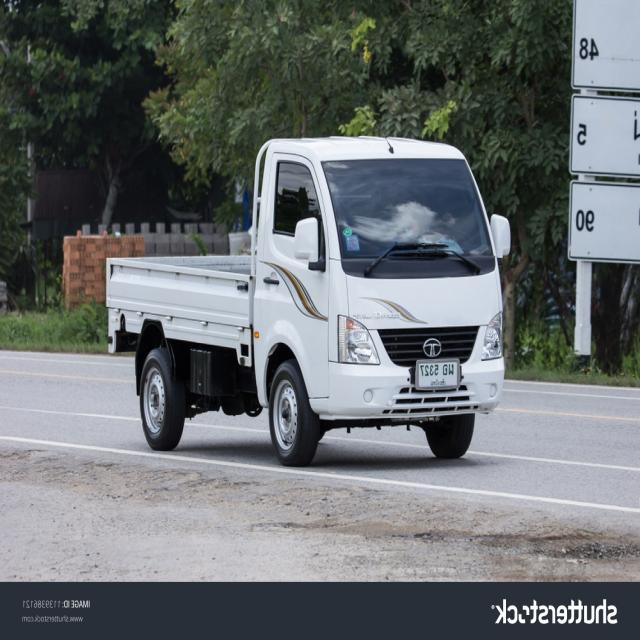motorcycle: (105, 138, 510, 466)
